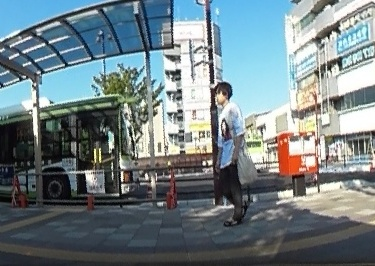person: (211, 80, 252, 227)
